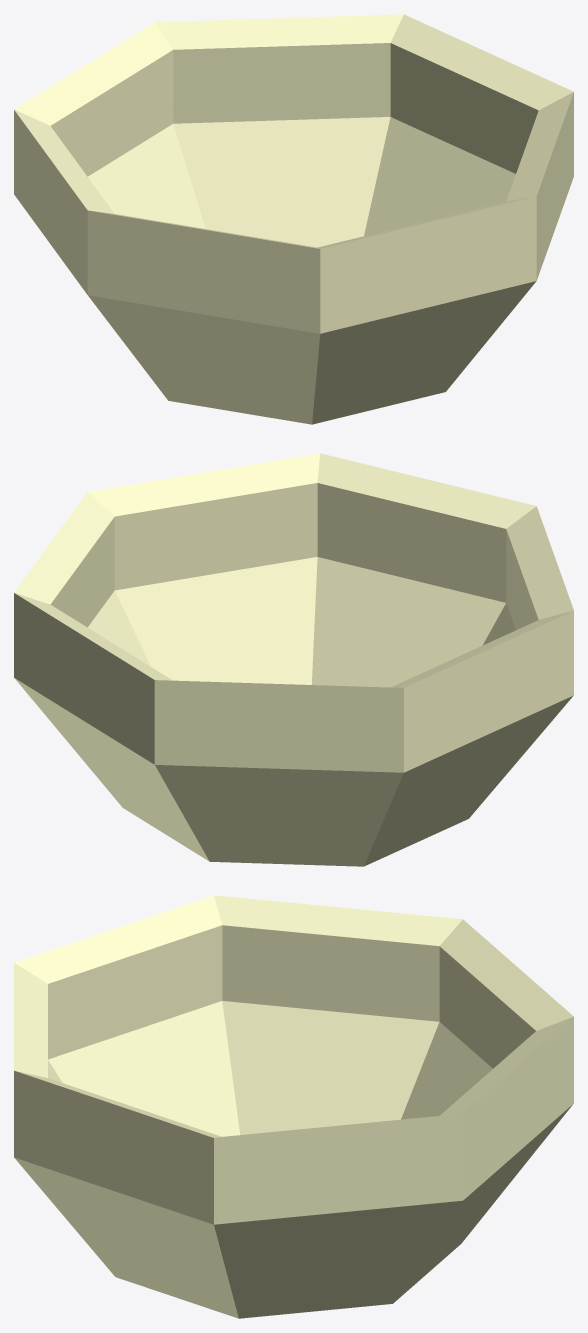
The model's file is Bowl.fbx.
3 views of the same model, one above another, from view 1: azimuth 30°, elevation 25°; view 2: azimuth 150°, elevation 25°; view 3: azimuth 270°, elevation 25° (orthographic). The views are drawn at different scales.
Parts seen in each view (by area): view 1: Sphere; view 2: Sphere; view 3: Sphere.
Part boxes in pixels (x1,y1,x2,y2): Sphere: [14, 14, 573, 424]; Sphere: [14, 453, 573, 866]; Sphere: [14, 895, 573, 1318].
Bounding box in the file's own units: 253 × 111 × 247.
